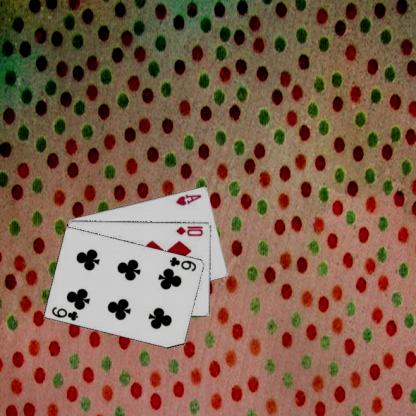10D: (174, 223, 204, 237)
6C: (167, 254, 198, 273), (49, 304, 80, 322)
AH: (174, 192, 202, 206)
